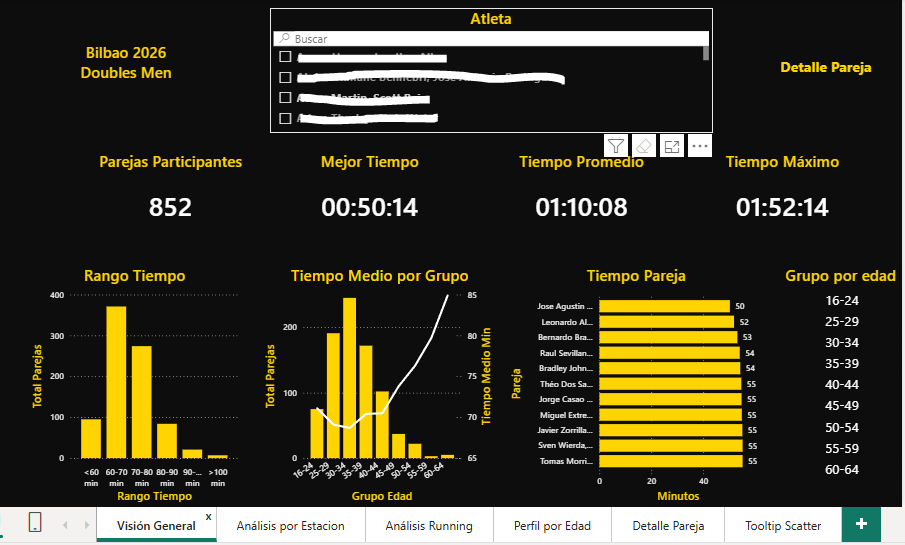

The dashboard page shown, as its layout file describes it:
{"tool":"powerbi","page":{"name":"Visión General","canvas":[1280,720],"ordinal":0},"visuals":[{"type":"cardVisual","title":"Parejas Participantes","fields":{"Data":["_Medidas.Total Parejas"]},"box":[114.3,215.7,257,122.3],"z":0},{"type":"cardVisual","title":"Mejor Tiempo","fields":{"Data":["_Medidas.Mejor Tiempo"]},"box":[397.1,215.7,257.4,122.3],"z":1000},{"type":"cardVisual","title":"Tiempo Promedio","fields":{"Data":["_Medidas.Tiempo Medio Formato"]},"box":[697.1,215.7,257.4,122.3],"z":2000},{"type":"cardVisual","title":"Tiempo Máximo","fields":{"Data":["_Medidas.Tiempo Maximo Min"]},"box":[1001.4,215.7,217.1,122.9],"z":3000},{"type":"clusteredColumnChart","title":"Rango Tiempo","fields":{"Y":["_Medidas.Total Parejas"],"Category":["hyrox_bilbao_2026_master.Rango Tiempo"]},"box":[41.2,376.9,302.9,342.8],"z":4000},{"type":"lineClusteredColumnComboChart","title":"Tiempo Medio por Grupo","fields":{"Y":["_Medidas.Total Parejas"],"Y2":["_Medidas.Tiempo Medio"],"Category":["hyrox_bilbao_2026_master.grupo_edad"]},"box":[371.4,377.1,337.1,342.8],"z":5000},{"type":"clusteredBarChart","title":"Tiempo Pareja","fields":{"Category":["hyrox_bilbao_2026_master.nombres_pareja"],"Y":["_Medidas.Mejor Tiempo Min"]},"box":[720,377.1,366.9,342.8],"z":6000},{"type":"listSlicer","title":"Grupo por edad","fields":{"Values":["dim_categoria.grupo_edad"]},"box":[1109.3,376.9,170.7,342.8],"z":7000},{"type":"slicer","title":"Atleta","fields":{"Values":["hyrox_bilbao_2026_master.nombres_pareja"]},"box":[384.3,12.9,627.1,177.1],"z":8000},{"type":"cardVisual","fields":{"Rows":["hyrox_bilbao_2026_master.evento","hyrox_bilbao_2026_master.año"]},"box":[0,34.3,360,135.7],"z":9000},{"type":"cardVisual","fields":{"Rows":["hyrox_bilbao_2026_master.modalidad"]},"box":[0,62.9,360,127.1],"z":10000},{"type":"pageNavigator","title":"Detalle Competidor","box":[1087.1,62.9,170,64.3],"z":11000}]}

Visuals, with their boxes on the page's 1280x720 design canvas (x1, y1, x2, y2). These are canvas units, not pixel positions in the 905x545 screenshot, which may show the page scaled, cropped or inside an application window:
"Parejas Participantes" cardVisual: 114/216/371/338
"Mejor Tiempo" cardVisual: 397/216/654/338
"Tiempo Promedio" cardVisual: 697/216/954/338
"Tiempo Máximo" cardVisual: 1001/216/1218/339
"Rango Tiempo" clusteredColumnChart: 41/377/344/720
"Tiempo Medio por Grupo" lineClusteredColumnComboChart: 371/377/708/720
"Tiempo Pareja" clusteredBarChart: 720/377/1087/720
"Grupo por edad" listSlicer: 1109/377/1280/720
"Atleta" slicer: 384/13/1011/190
cardVisual - hyrox_bilbao_2026_master.evento x hyrox_bilbao_2026_master.año: 0/34/360/170
cardVisual - hyrox_bilbao_2026_master.modalidad: 0/63/360/190
"Detalle Competidor" pageNavigator: 1087/63/1257/127
